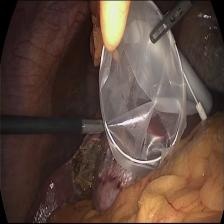Grasper: (148, 0, 194, 47), (82, 119, 110, 135)
Specimen Bag: (94, 0, 216, 177)
